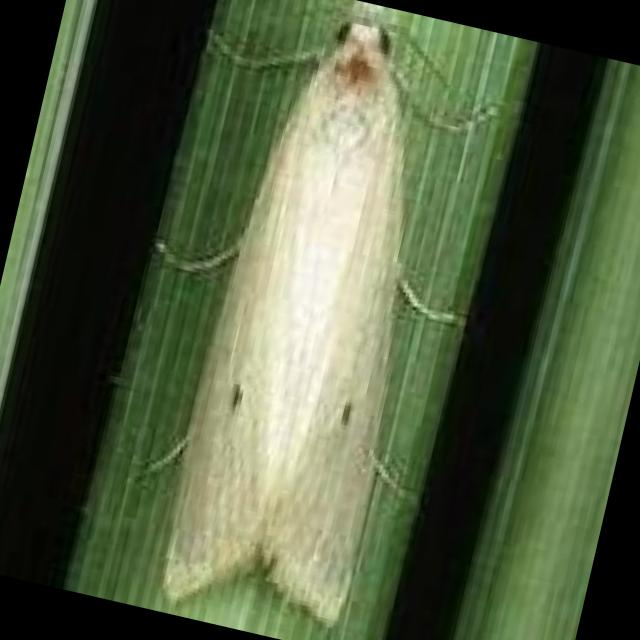stem-borer: (107, 0, 496, 640)
